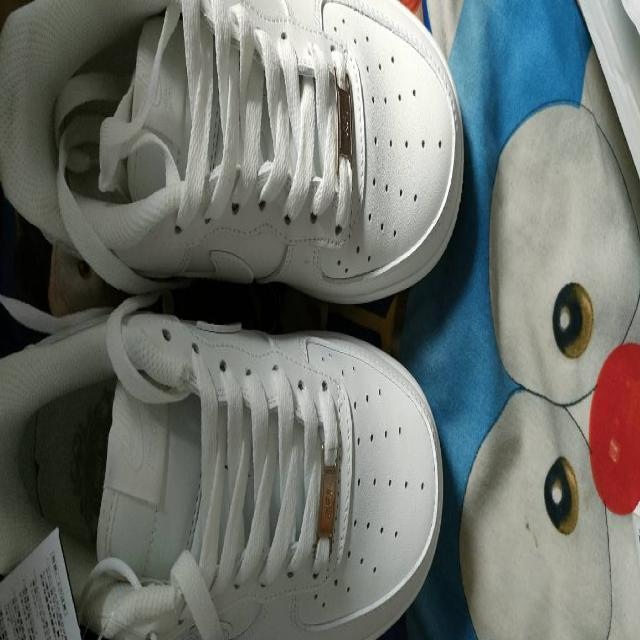nike fake air force: (0, 302, 444, 639), (0, 0, 467, 315)
